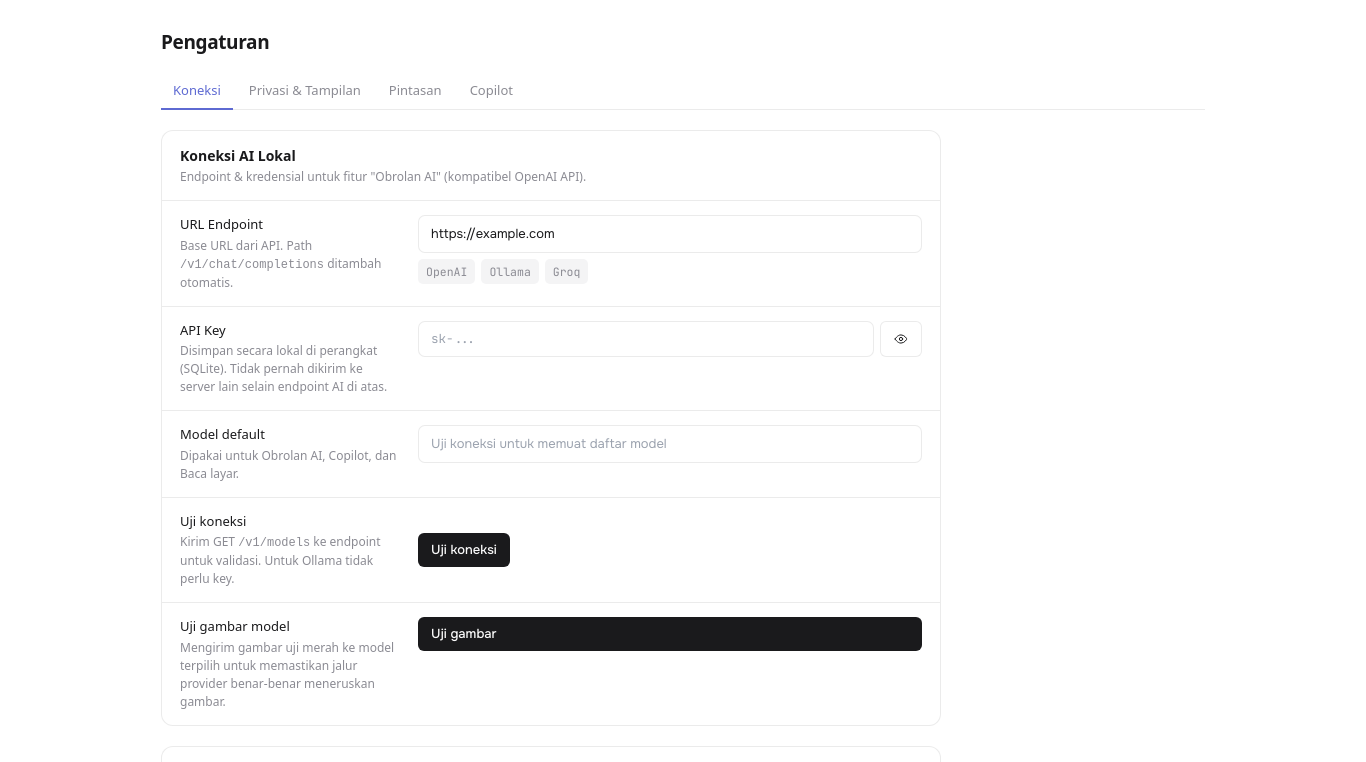
AI model selection › ignores an in-flight response when the endpoint changes
Click the button "Uji koneksi".
click(464, 550)  # box [418,533,510,566]
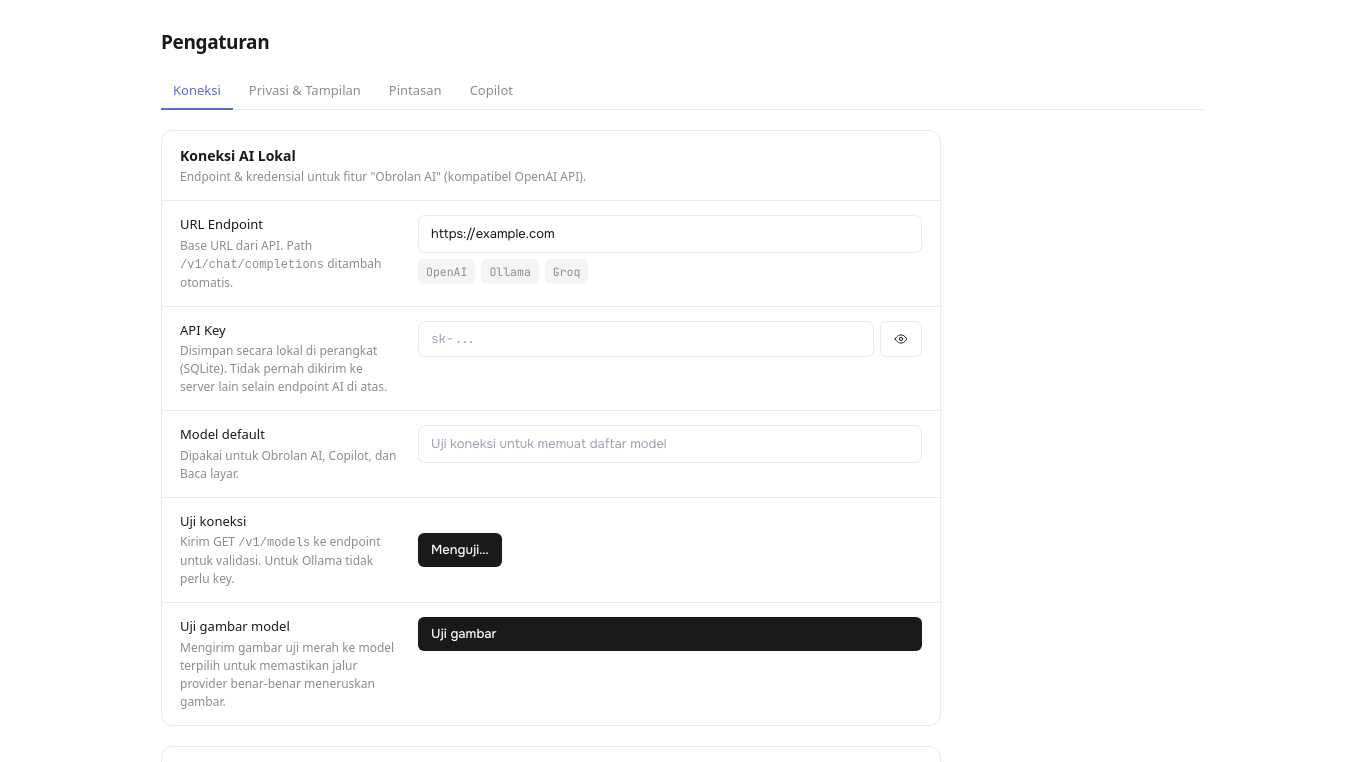
Replace the text in the field with placeholder "https://api.openai.com" with "https://other.example.com" at (670, 234), box [418,215,922,252]
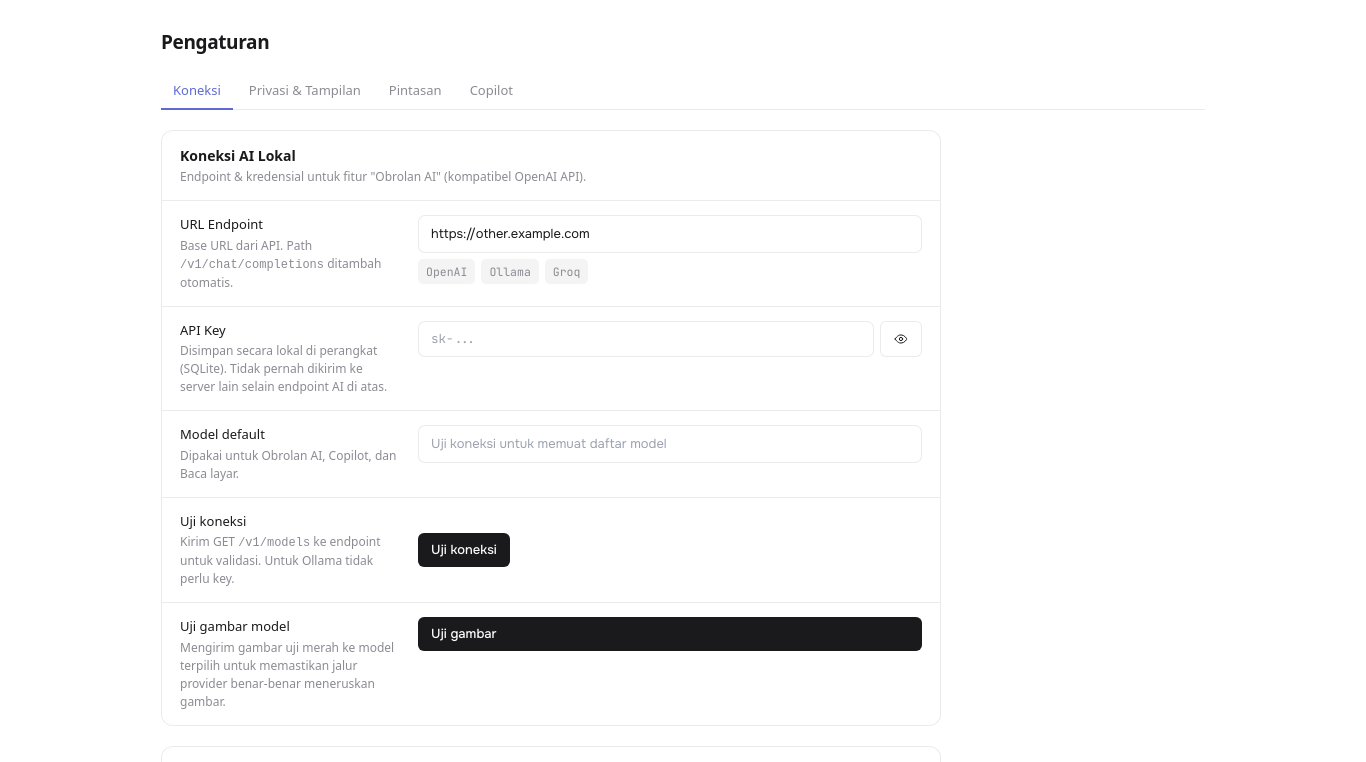
Now the button "Uji koneksi" is enabled, box [418,533,510,566]
